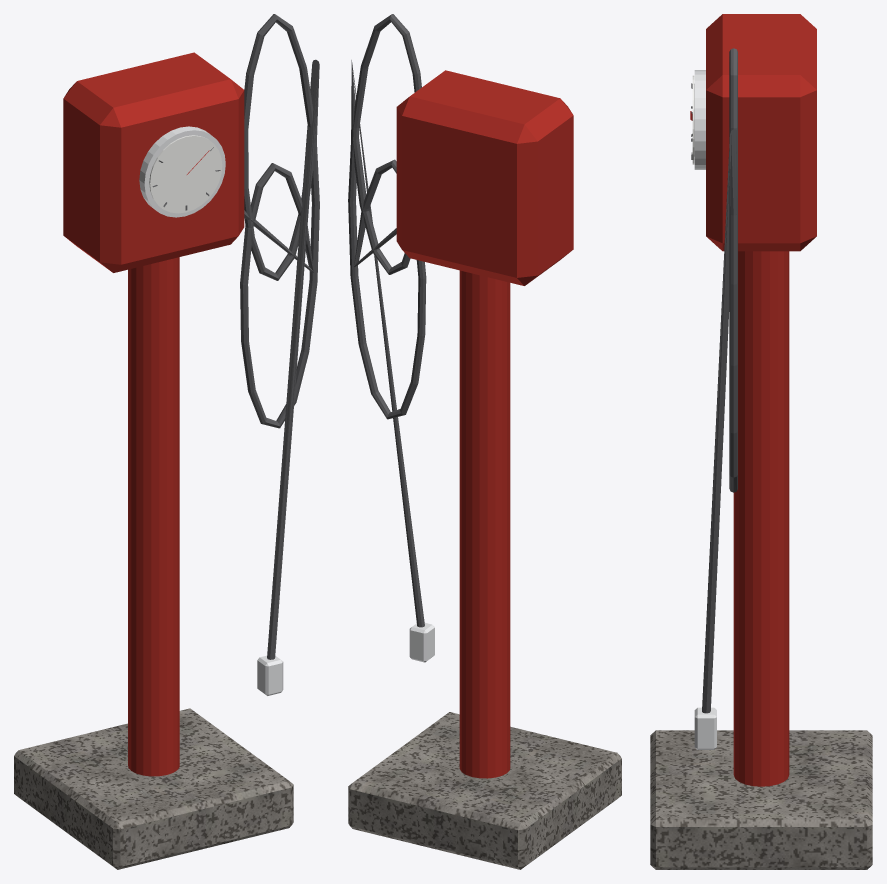
The model's file is calibrador_pneu.glb.
The picture shows the model from 3 angles, left to right: view 1: azimuth 30°, elevation 25°; view 2: azimuth 150°, elevation 25°; view 3: azimuth 270°, elevation 25°; orthographic projection. The views are drawn at different scales.
Visible parts, largest first — view 1: calibrador_pneu_tinta_vermelha, calibrador_pneu_concreto, calibrador_pneu_borracha, calibrador_pneu_esmalte, calibrador_pneu_aco_polido; view 2: calibrador_pneu_tinta_vermelha, calibrador_pneu_concreto, calibrador_pneu_borracha, calibrador_pneu_aco_polido; view 3: calibrador_pneu_tinta_vermelha, calibrador_pneu_concreto, calibrador_pneu_borracha, calibrador_pneu_aco_polido.
Boxes of the visible parts, left/top/right/bottom form: calibrador_pneu_tinta_vermelha: left=63, top=52, right=244, bottom=776; calibrador_pneu_concreto: left=14, top=708, right=293, bottom=869; calibrador_pneu_borracha: left=240, top=14, right=319, bottom=659; calibrador_pneu_esmalte: left=149, top=135, right=222, bottom=213; calibrador_pneu_aco_polido: left=139, top=126, right=283, bottom=695; calibrador_pneu_tinta_vermelha: left=396, top=70, right=573, bottom=778; calibrador_pneu_concreto: left=348, top=712, right=621, bottom=869; calibrador_pneu_borracha: left=348, top=14, right=426, bottom=627; calibrador_pneu_aco_polido: left=409, top=623, right=434, bottom=662; calibrador_pneu_tinta_vermelha: left=706, top=14, right=816, bottom=786; calibrador_pneu_concreto: left=650, top=730, right=872, bottom=869; calibrador_pneu_borracha: left=702, top=48, right=737, bottom=713; calibrador_pneu_aco_polido: left=694, top=70, right=716, bottom=749.
Size of the model in its own units: 0.5379 by 1.65 by 0.4.
7 materials, 1 textured.
